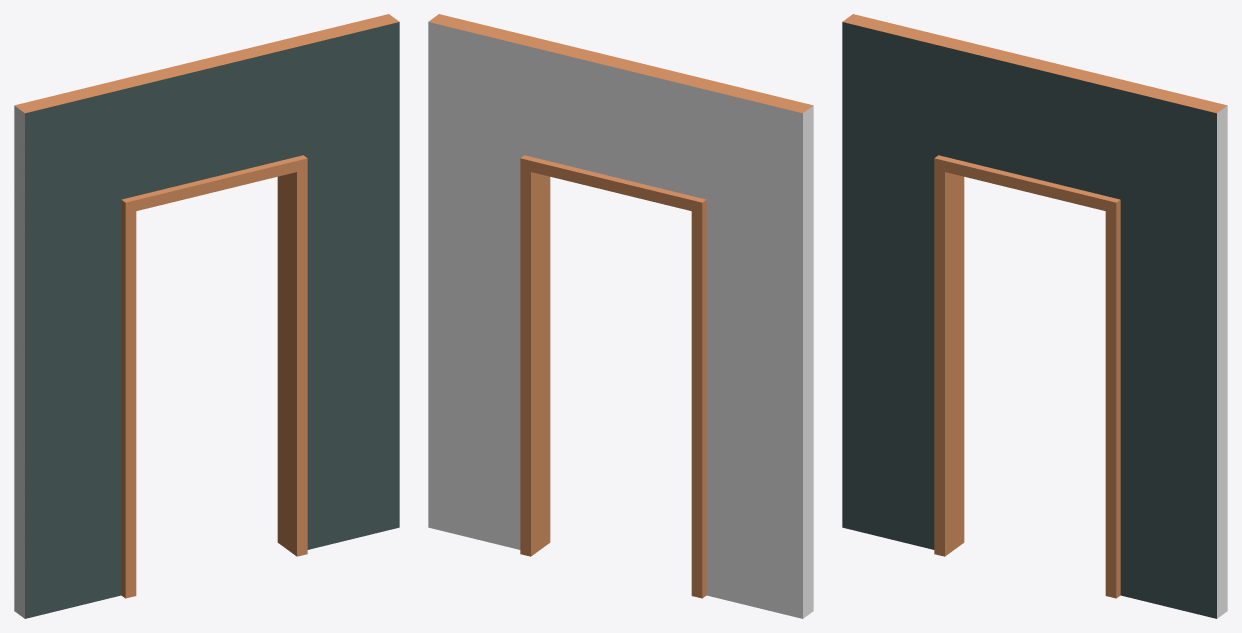
File: wallDoorway.obj
3 renders of one model, left to right at view 1: azimuth 30°, elevation 25°; view 2: azimuth 150°, elevation 25°; view 3: azimuth 330°, elevation 25°, orthographic.
Visible parts, largest first — view 1: wallDoorway; view 2: wallDoorway; view 3: wallDoorway.
Part boxes in pixels (x1,y1,x2,y2): wallDoorway: (14, 14, 399, 618); wallDoorway: (428, 14, 813, 618); wallDoorway: (842, 14, 1227, 618).
Size of the model in its own units: 1 by 1.29 by 0.0891.
